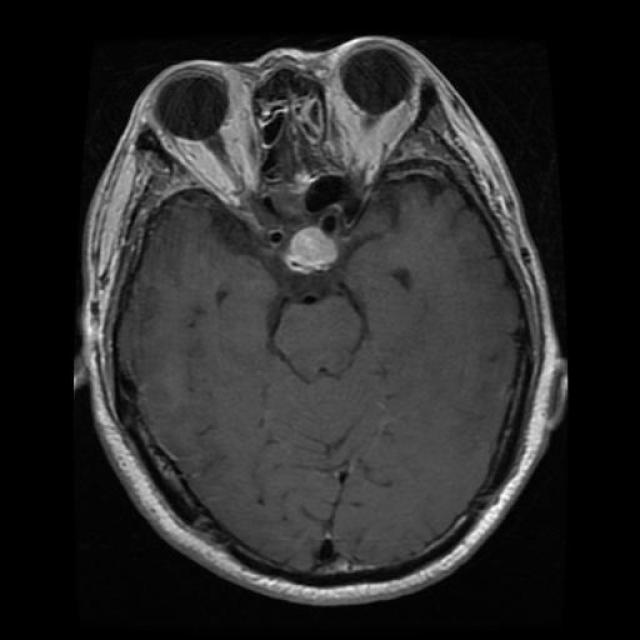pituitary: (244, 180, 356, 292)
